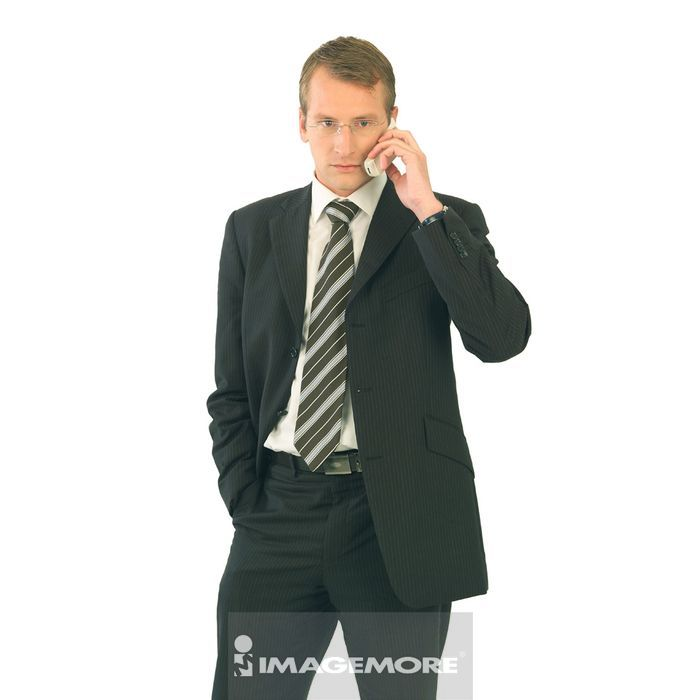phone: (362, 119, 396, 178)
talk: (313, 105, 428, 206)
